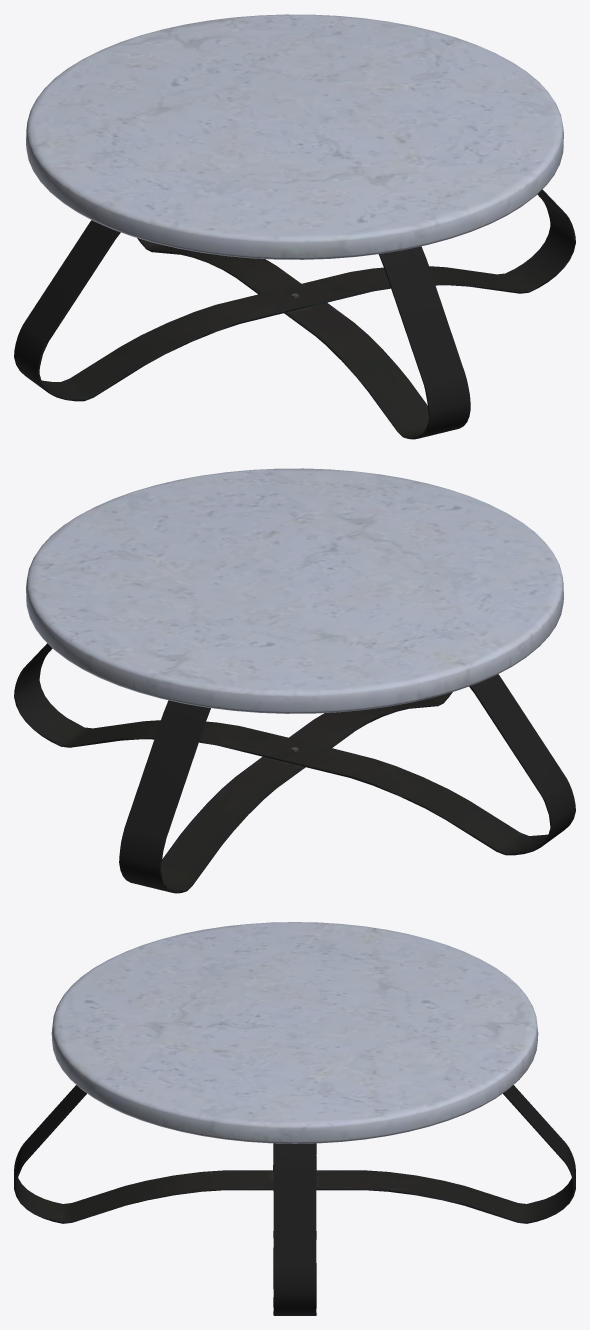
The model's file is coffee_table_round_01.glb.
3 views of the same model, one above another, from view 1: azimuth 30°, elevation 25°; view 2: azimuth 150°, elevation 25°; view 3: azimuth 270°, elevation 25° (orthographic). The views are drawn at different scales.
Parts seen in each view (by area): view 1: coffee_table_round_01; view 2: coffee_table_round_01; view 3: coffee_table_round_01.
Boxes of the visible parts, x1,y1,x2,y2 form: coffee_table_round_01: [14, 14, 575, 439]; coffee_table_round_01: [14, 468, 575, 893]; coffee_table_round_01: [14, 922, 575, 1315].
Size of the model in its own units: 1.3 by 0.4909 by 1.3.
Materials: 1 (1 with a texture image).
